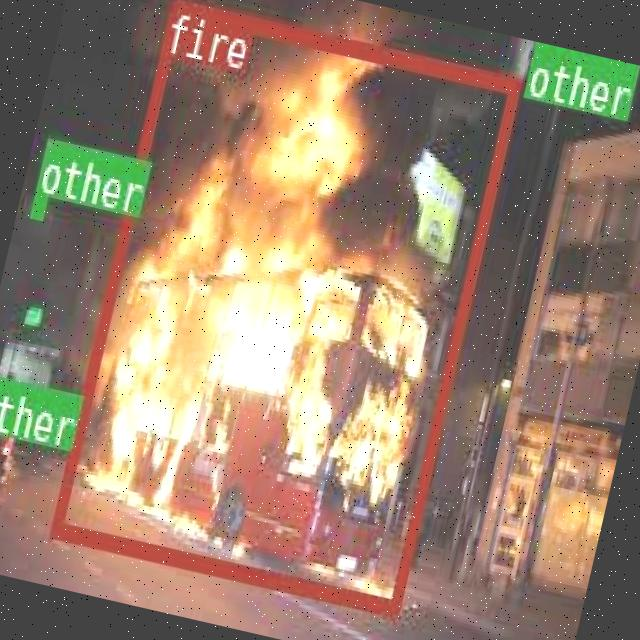fire: (49, 0, 519, 611)
